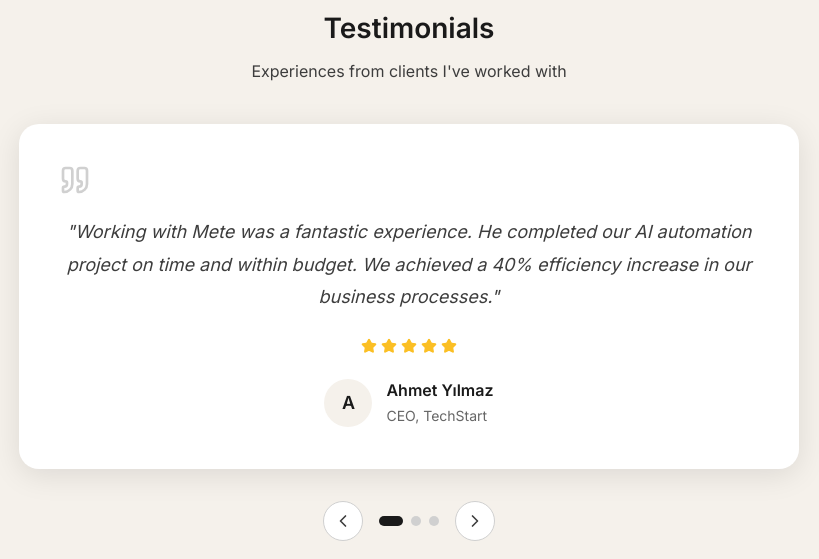
Scenario: Testimonials › navigation › wraps around when reaching end
The image size is (819, 559).
// Click 3 times to wrap around
Click the button named "Next testimonial". click: point(475, 521)
box: 455,501 -> 495,541
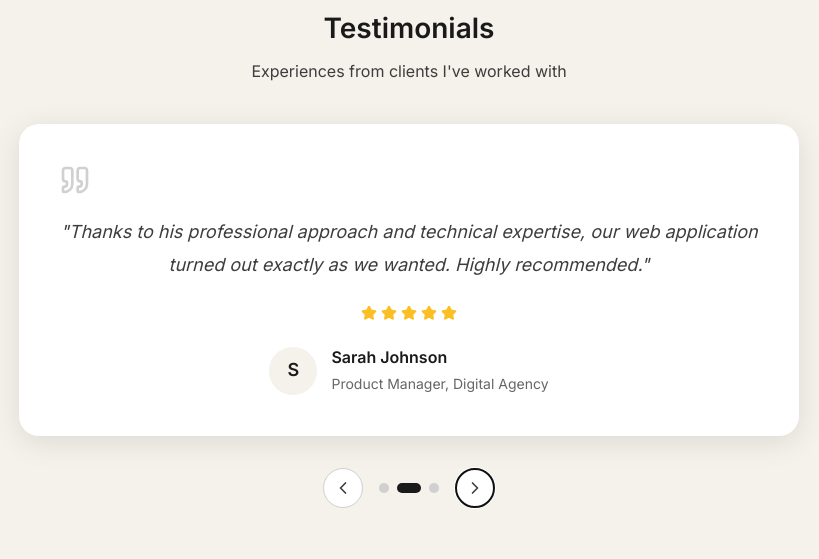
Click the button named "Next testimonial". click: point(475, 488)
box: 455,468 -> 495,508
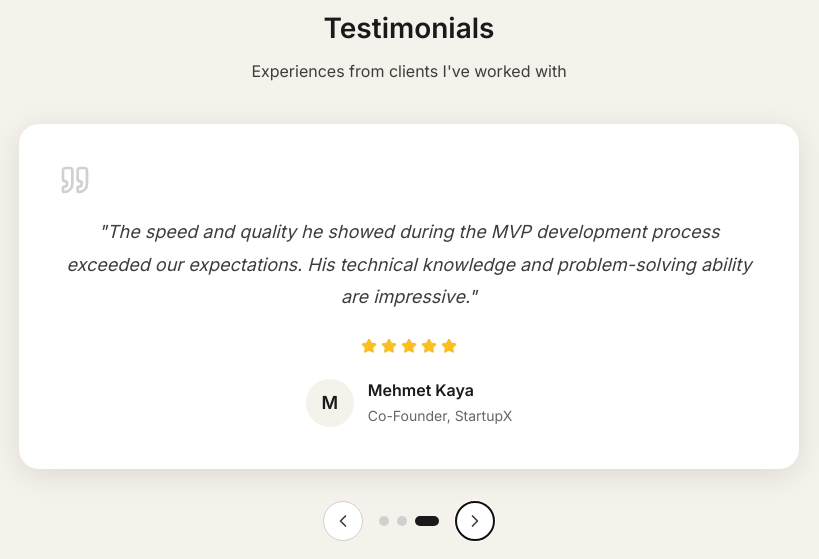
Click the button named "Next testimonial". click: point(475, 521)
box: 455,501 -> 495,541
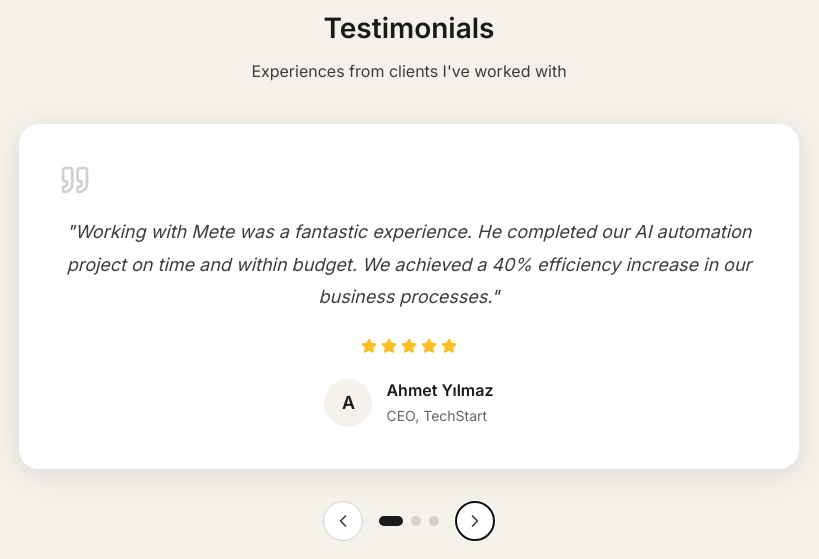
Check: the text "Ahmet Yılmaz" is shown, box 386,378 -> 494,403
